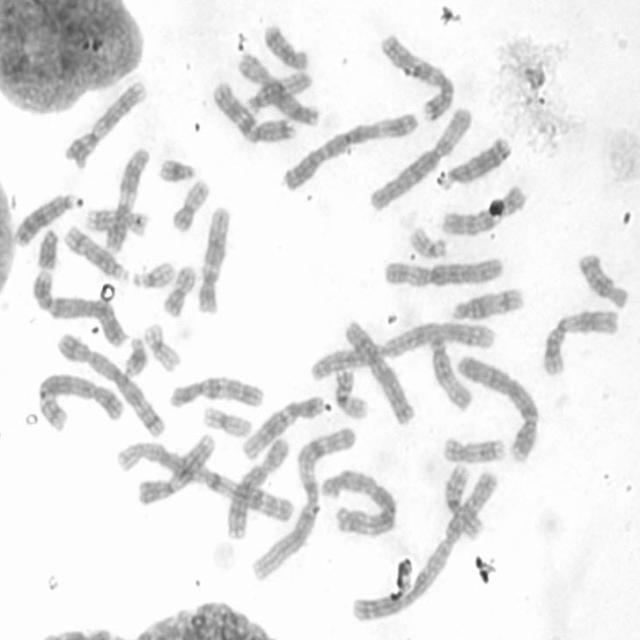A1: (248, 424, 355, 582), (117, 440, 297, 523)
A2: (351, 466, 499, 624), (309, 320, 498, 383)
A3: (280, 111, 419, 192), (320, 467, 399, 537)
B4: (455, 352, 542, 466), (31, 270, 128, 350)
B5: (54, 331, 166, 438), (38, 372, 124, 432)
C10: (439, 184, 530, 237), (168, 377, 265, 410)
C11: (540, 307, 622, 377), (101, 144, 150, 254)
C12: (239, 394, 324, 462), (197, 206, 230, 315)
C6: (367, 105, 475, 213), (383, 254, 505, 287)
C7: (380, 33, 454, 120), (213, 80, 298, 144)
C8: (223, 438, 290, 540), (237, 53, 320, 127)
C9: (63, 80, 148, 172), (136, 430, 216, 508)
D13: (435, 136, 516, 192), (12, 192, 83, 250)
D14: (62, 221, 130, 282), (451, 286, 523, 322)
D15: (430, 338, 476, 414), (247, 69, 316, 112)
E16: (442, 461, 488, 541), (332, 369, 368, 420)
E17: (84, 206, 152, 239), (442, 435, 508, 465)
E18: (577, 252, 630, 310), (261, 21, 310, 70)
F19: (144, 321, 182, 374), (202, 405, 254, 440)
F20: (172, 178, 210, 232), (161, 264, 196, 317)
G21: (158, 157, 198, 183), (122, 337, 147, 377)
G22: (410, 226, 448, 259), (132, 262, 175, 290)
X: (343, 317, 418, 426)
Y: (37, 225, 59, 270)
